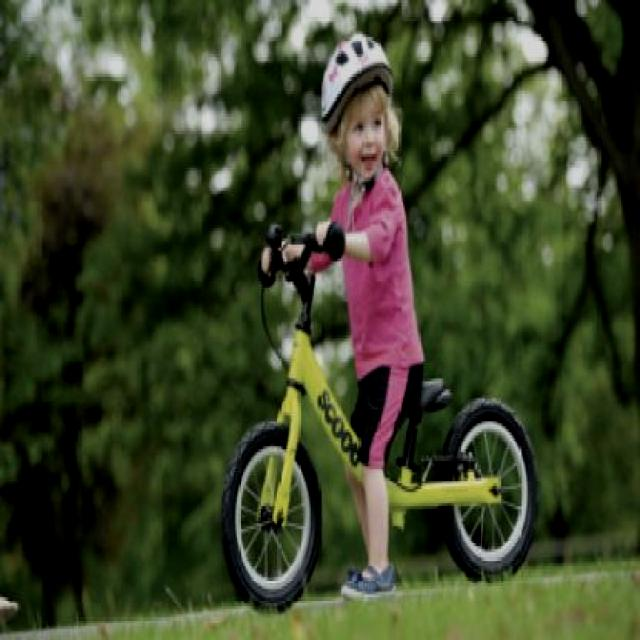With Helmet: (318, 26, 400, 149)
